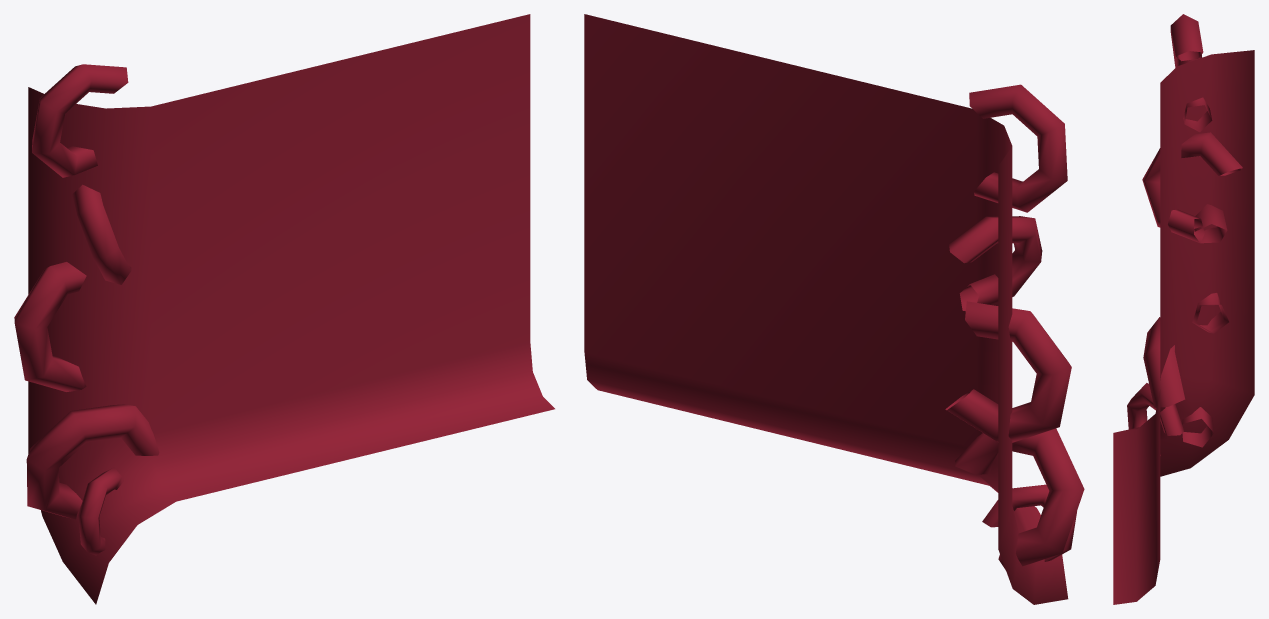
File: Surface_InnerCornerRoad.fbx
3 views of the same model, side by side, from view 1: azimuth 30°, elevation 25°; view 2: azimuth 150°, elevation 25°; view 3: azimuth 270°, elevation 25° (orthographic). The views are drawn at different scales.
Parts seen in each view (by area): view 1: Surface_InnerCornerRoad; view 2: Surface_InnerCornerRoad; view 3: Surface_InnerCornerRoad.
Boxes of the visible parts, <box> form: Surface_InnerCornerRoad: <box>14,14,554,604</box>; Surface_InnerCornerRoad: <box>584,14,1084,604</box>; Surface_InnerCornerRoad: <box>1113,14,1254,604</box>.
Size of the model in its own units: 2331 by 2326 by 621.
